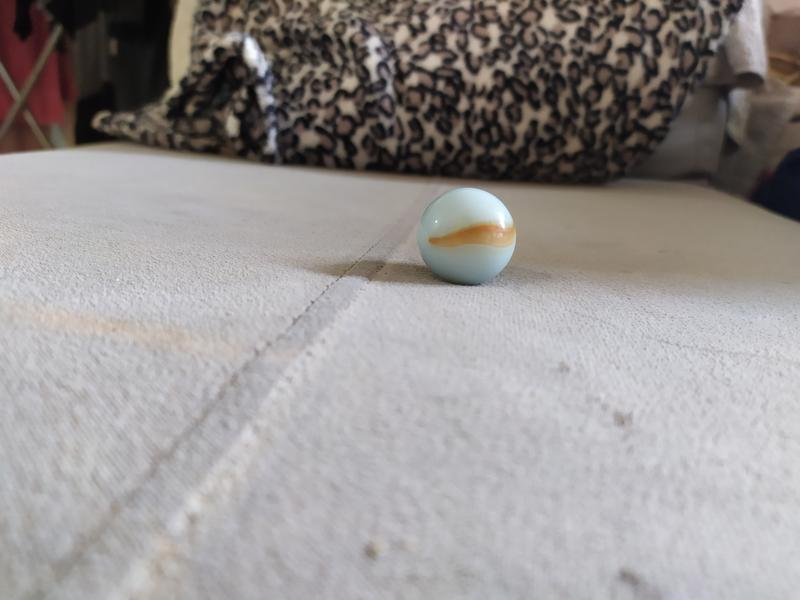Warning: (414, 185, 519, 288)
